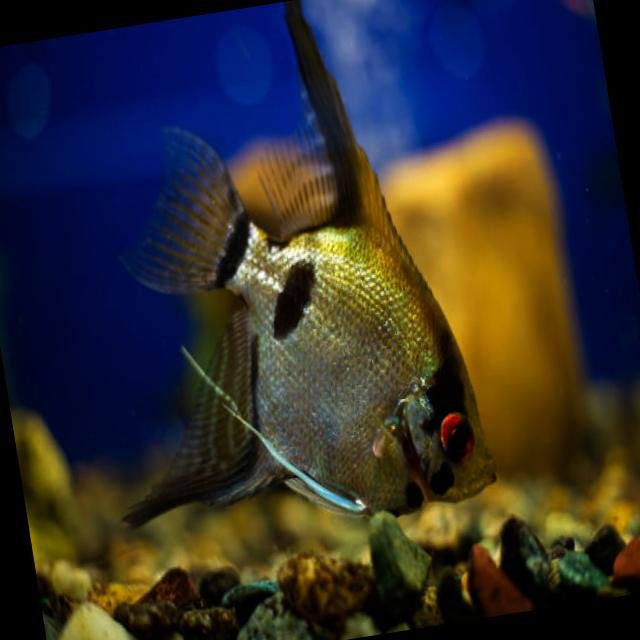AngelFish: (53, 0, 510, 541)
